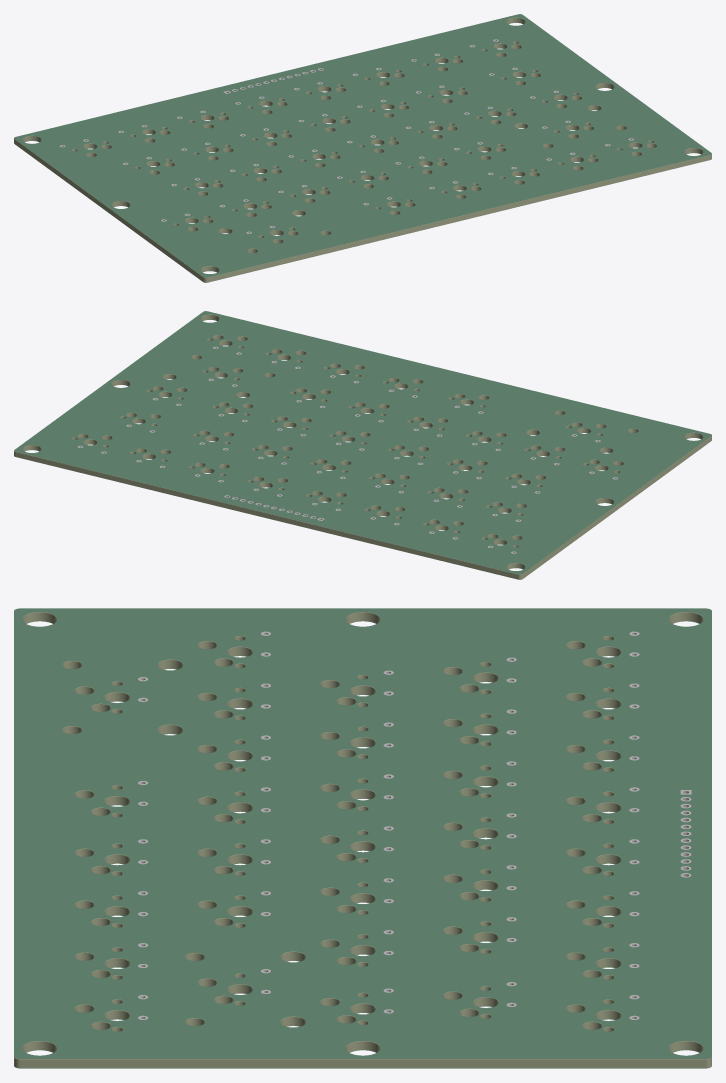
Rendered from right.glb.
3 views of the same model, one above another, from view 1: azimuth 30°, elevation 25°; view 2: azimuth 150°, elevation 25°; view 3: azimuth 270°, elevation 25° (orthographic). The views are drawn at different scales.
Parts seen in each view (by area): view 1: =>[0:1:1:5], =>[0:1:1:3], =>[0:1:1:2], =>[0:1:1:4]; view 2: =>[0:1:1:5], =>[0:1:1:3], =>[0:1:1:2], =>[0:1:1:4]; view 3: =>[0:1:1:5], =>[0:1:1:3], =>[0:1:1:2], =>[0:1:1:4].
Part boxes in pixels (x1,y1,x2,y2): =>[0:1:1:5]: [14, 15, 711, 282]; =>[0:1:1:3]: [14, 14, 711, 277]; =>[0:1:1:2]: [60, 39, 633, 233]; =>[0:1:1:4]: [15, 22, 711, 282]; =>[0:1:1:5]: [14, 312, 711, 579]; =>[0:1:1:3]: [14, 311, 711, 574]; =>[0:1:1:2]: [78, 346, 617, 553]; =>[0:1:1:4]: [14, 319, 710, 579]; =>[0:1:1:5]: [14, 609, 711, 1068]; =>[0:1:1:3]: [14, 608, 711, 1058]; =>[0:1:1:2]: [138, 631, 691, 1019]; =>[0:1:1:4]: [14, 621, 711, 1068].
Size of the model in its own units: 0.1654 by 0.00161 by 0.1082.
